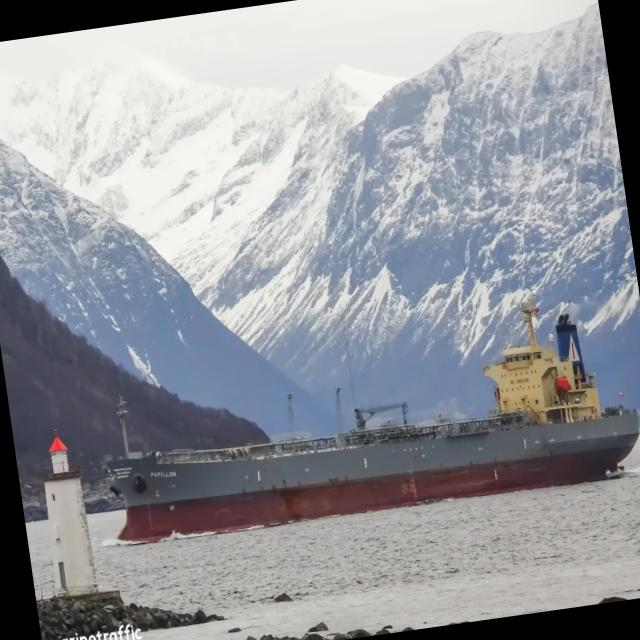Tanker: (105, 300, 639, 541)
